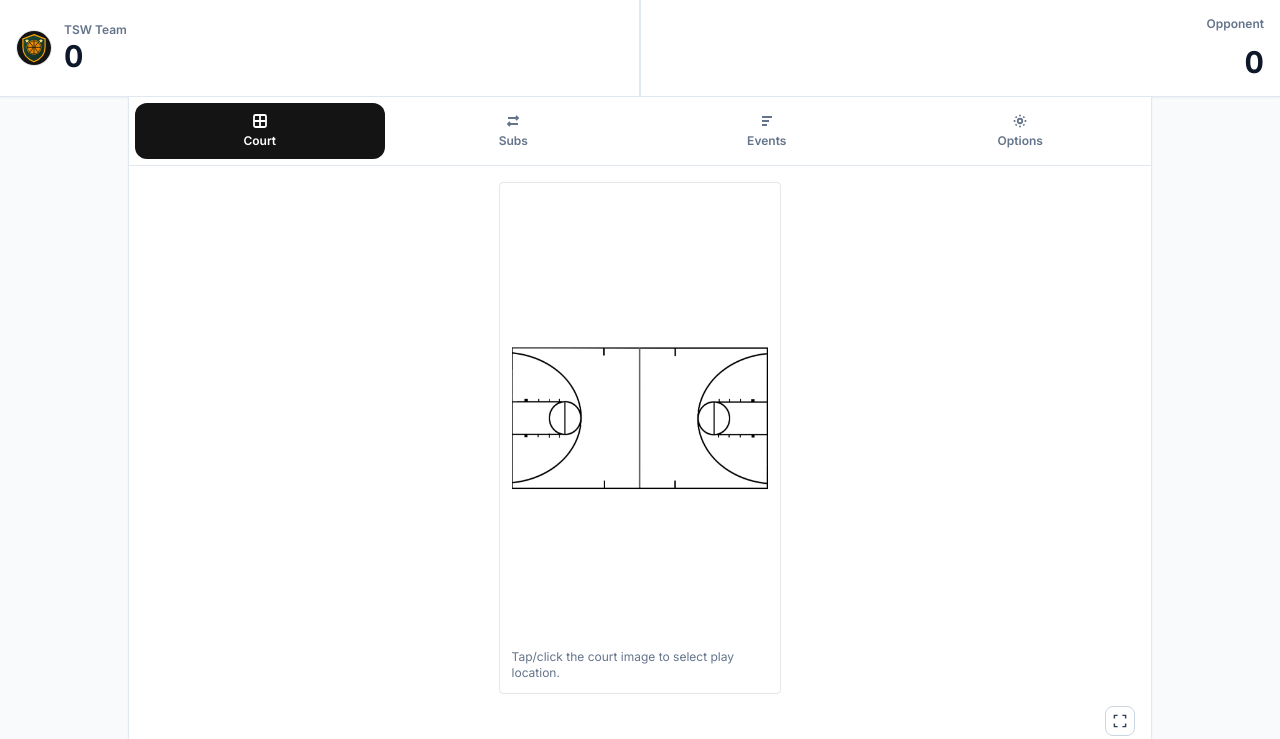
Test: GameTrackPage › explains the voice process and complete phrase sets for a one-team game
The image size is (1280, 739).
Step 1. Click the button "Options" → click(1020, 131), box [896,103,1145,159]
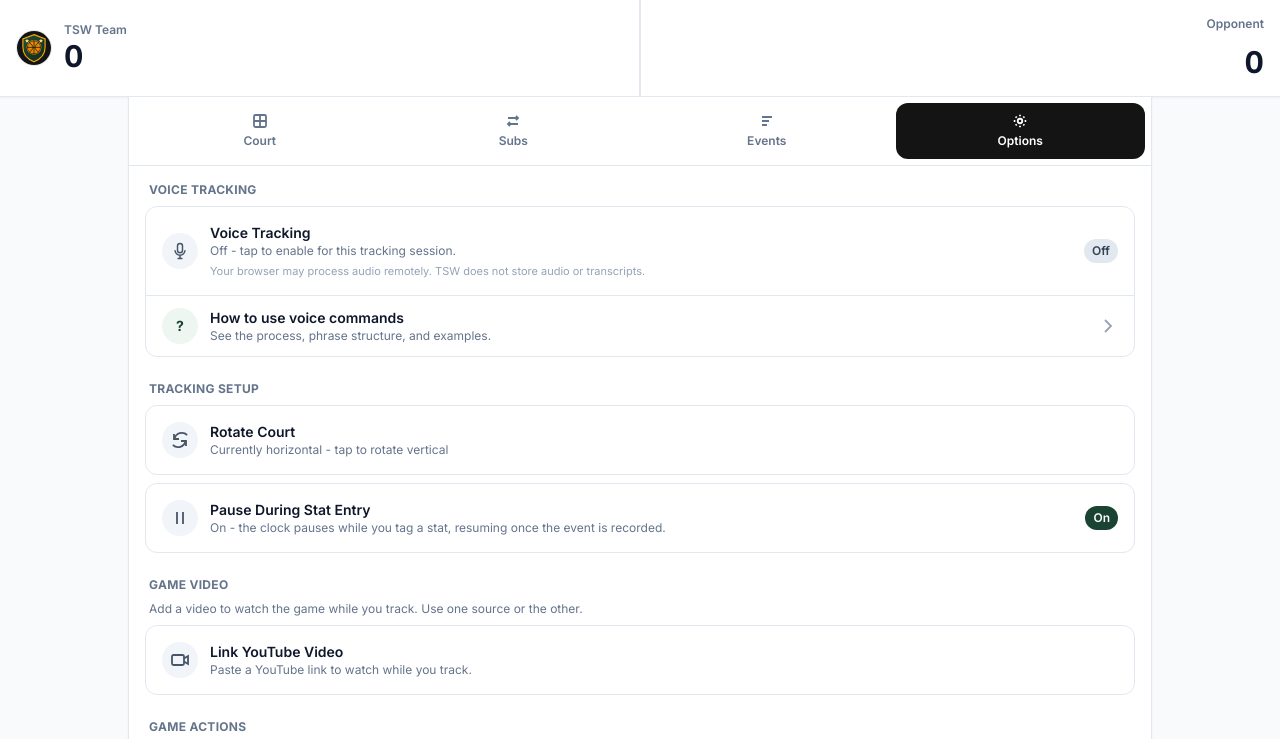
Result: the button "Voice Tracking" is shown at [146,207,1134,295]
Result: the button "How to use voice commands" is shown
Result: the heading "Tracking setup" is shown at [149,381,259,396]
Step 2. Click the button "How to use voice commands" → click(180, 326), box [146,295,1134,356]
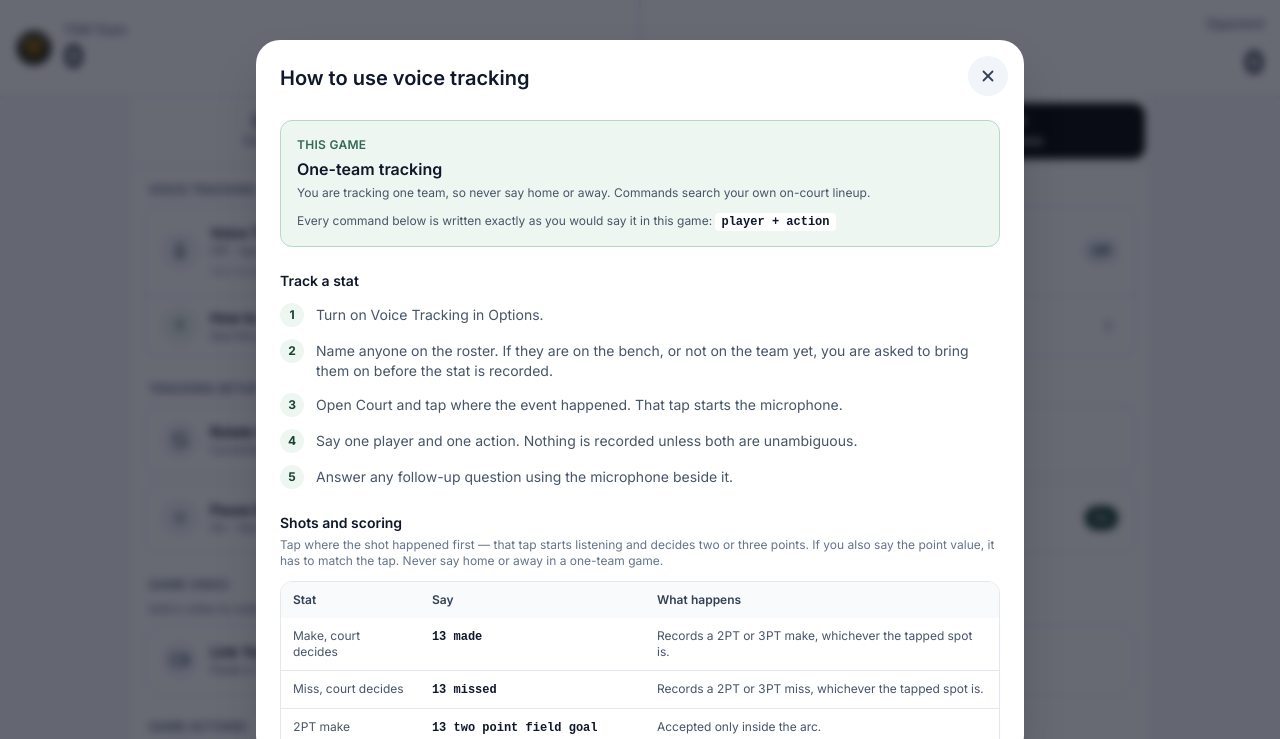
Result: the heading "One-team tracking" is shown at [297,159,442,179]
Result: the text "player + action" is shown at [716,213,836,231]
Result: the text "You are tracking one team, so never say home or away" is shown at [297,185,870,200]
Step 3. Click the button named "Close dialog" in the row of "How to use voice tracking" → click(988, 76), box [968,56,1008,96]
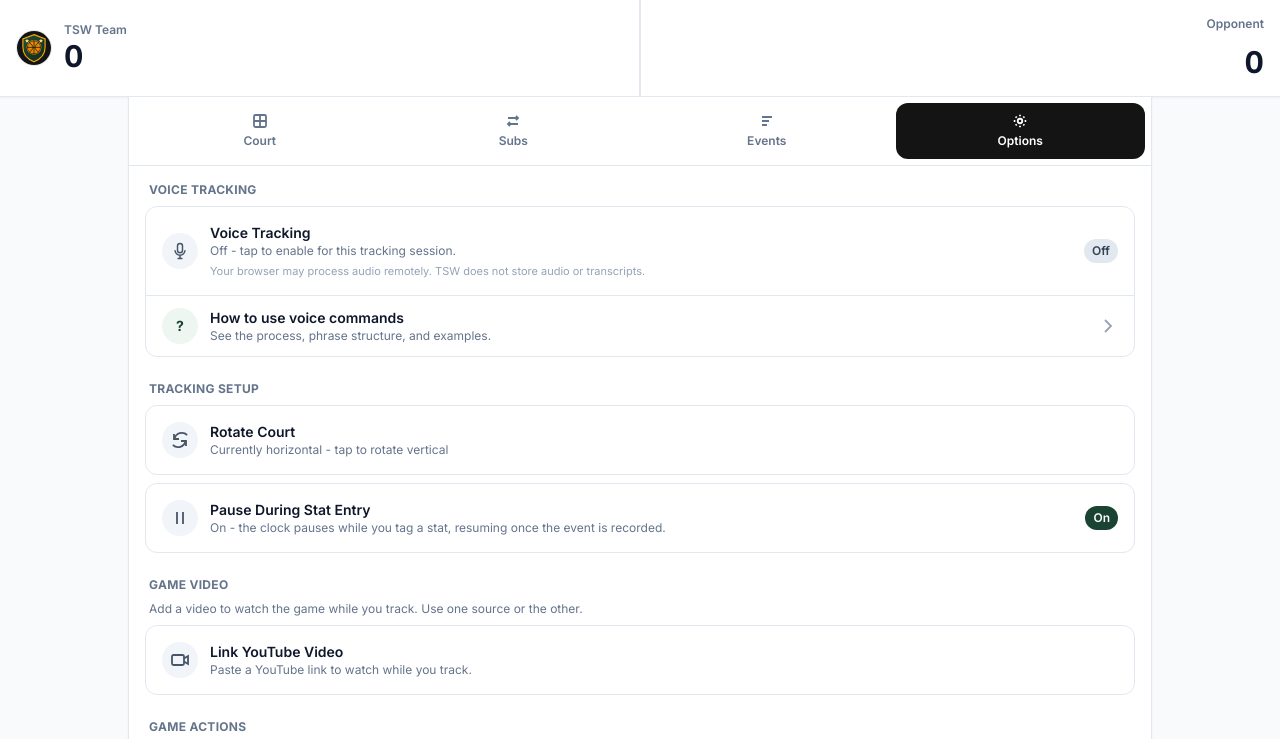
Result: the heading "How to use voice tracking" is gone
